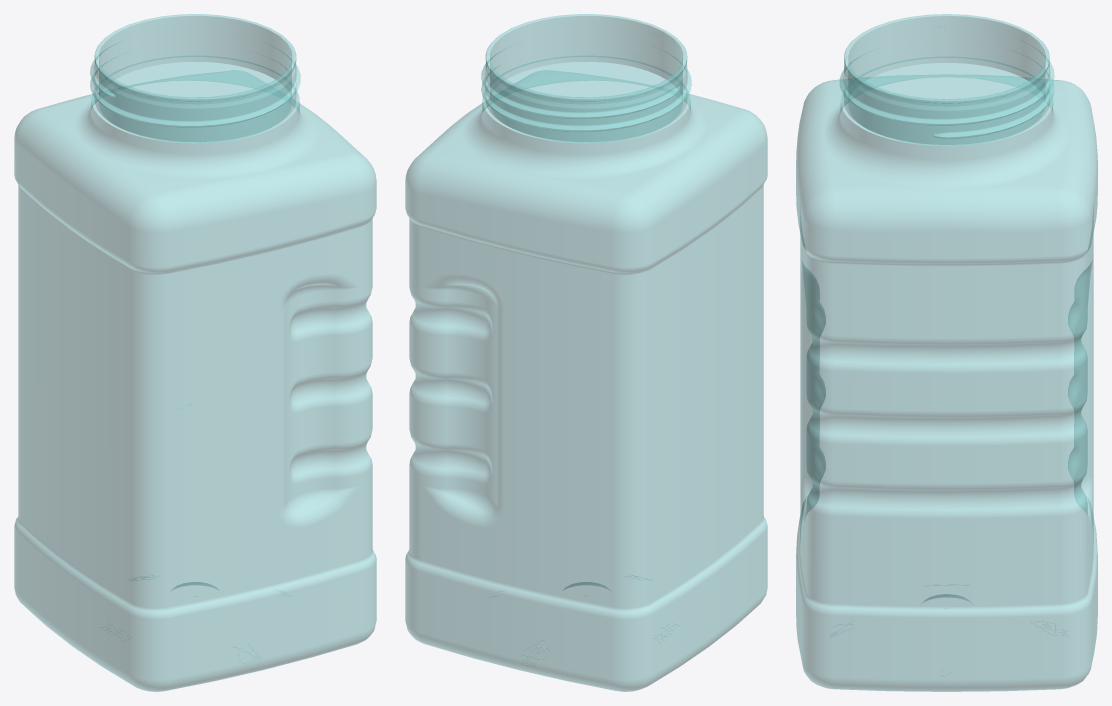
File: bottle.glb
The picture shows the model from 3 angles, left to right: view 1: azimuth 30°, elevation 25°; view 2: azimuth 150°, elevation 25°; view 3: azimuth 270°, elevation 25°; orthographic projection. The views are drawn at different scales.
Visible parts, largest first — view 1: 80410UK0PD1_body1; view 2: 80410UK0PD1_body1; view 3: 80410UK0PD1_body1.
Part boxes in pixels (bbox=[...]): 80410UK0PD1_body1: bbox=[14, 14, 376, 691]; 80410UK0PD1_body1: bbox=[405, 14, 767, 691]; 80410UK0PD1_body1: bbox=[796, 14, 1097, 691].
Size of the model in its own units: 8.66 by 18.3 by 8.66.
